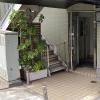stairs: (47, 39, 74, 74)
